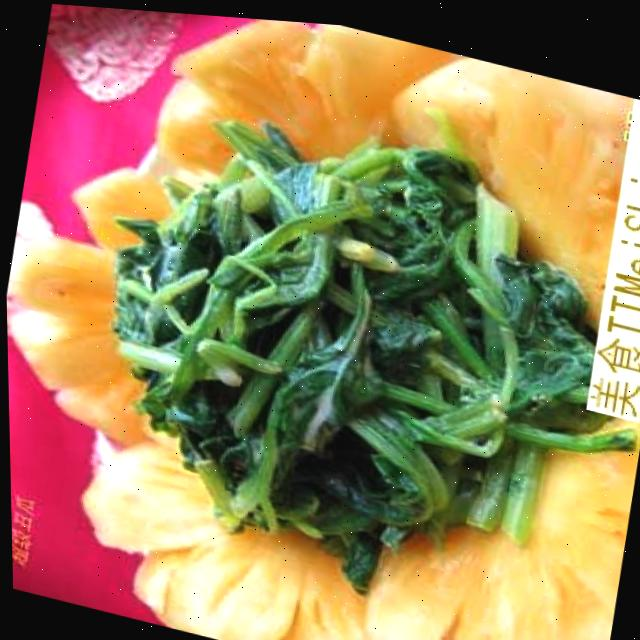蔬菜料理: (30, 29, 640, 640)
